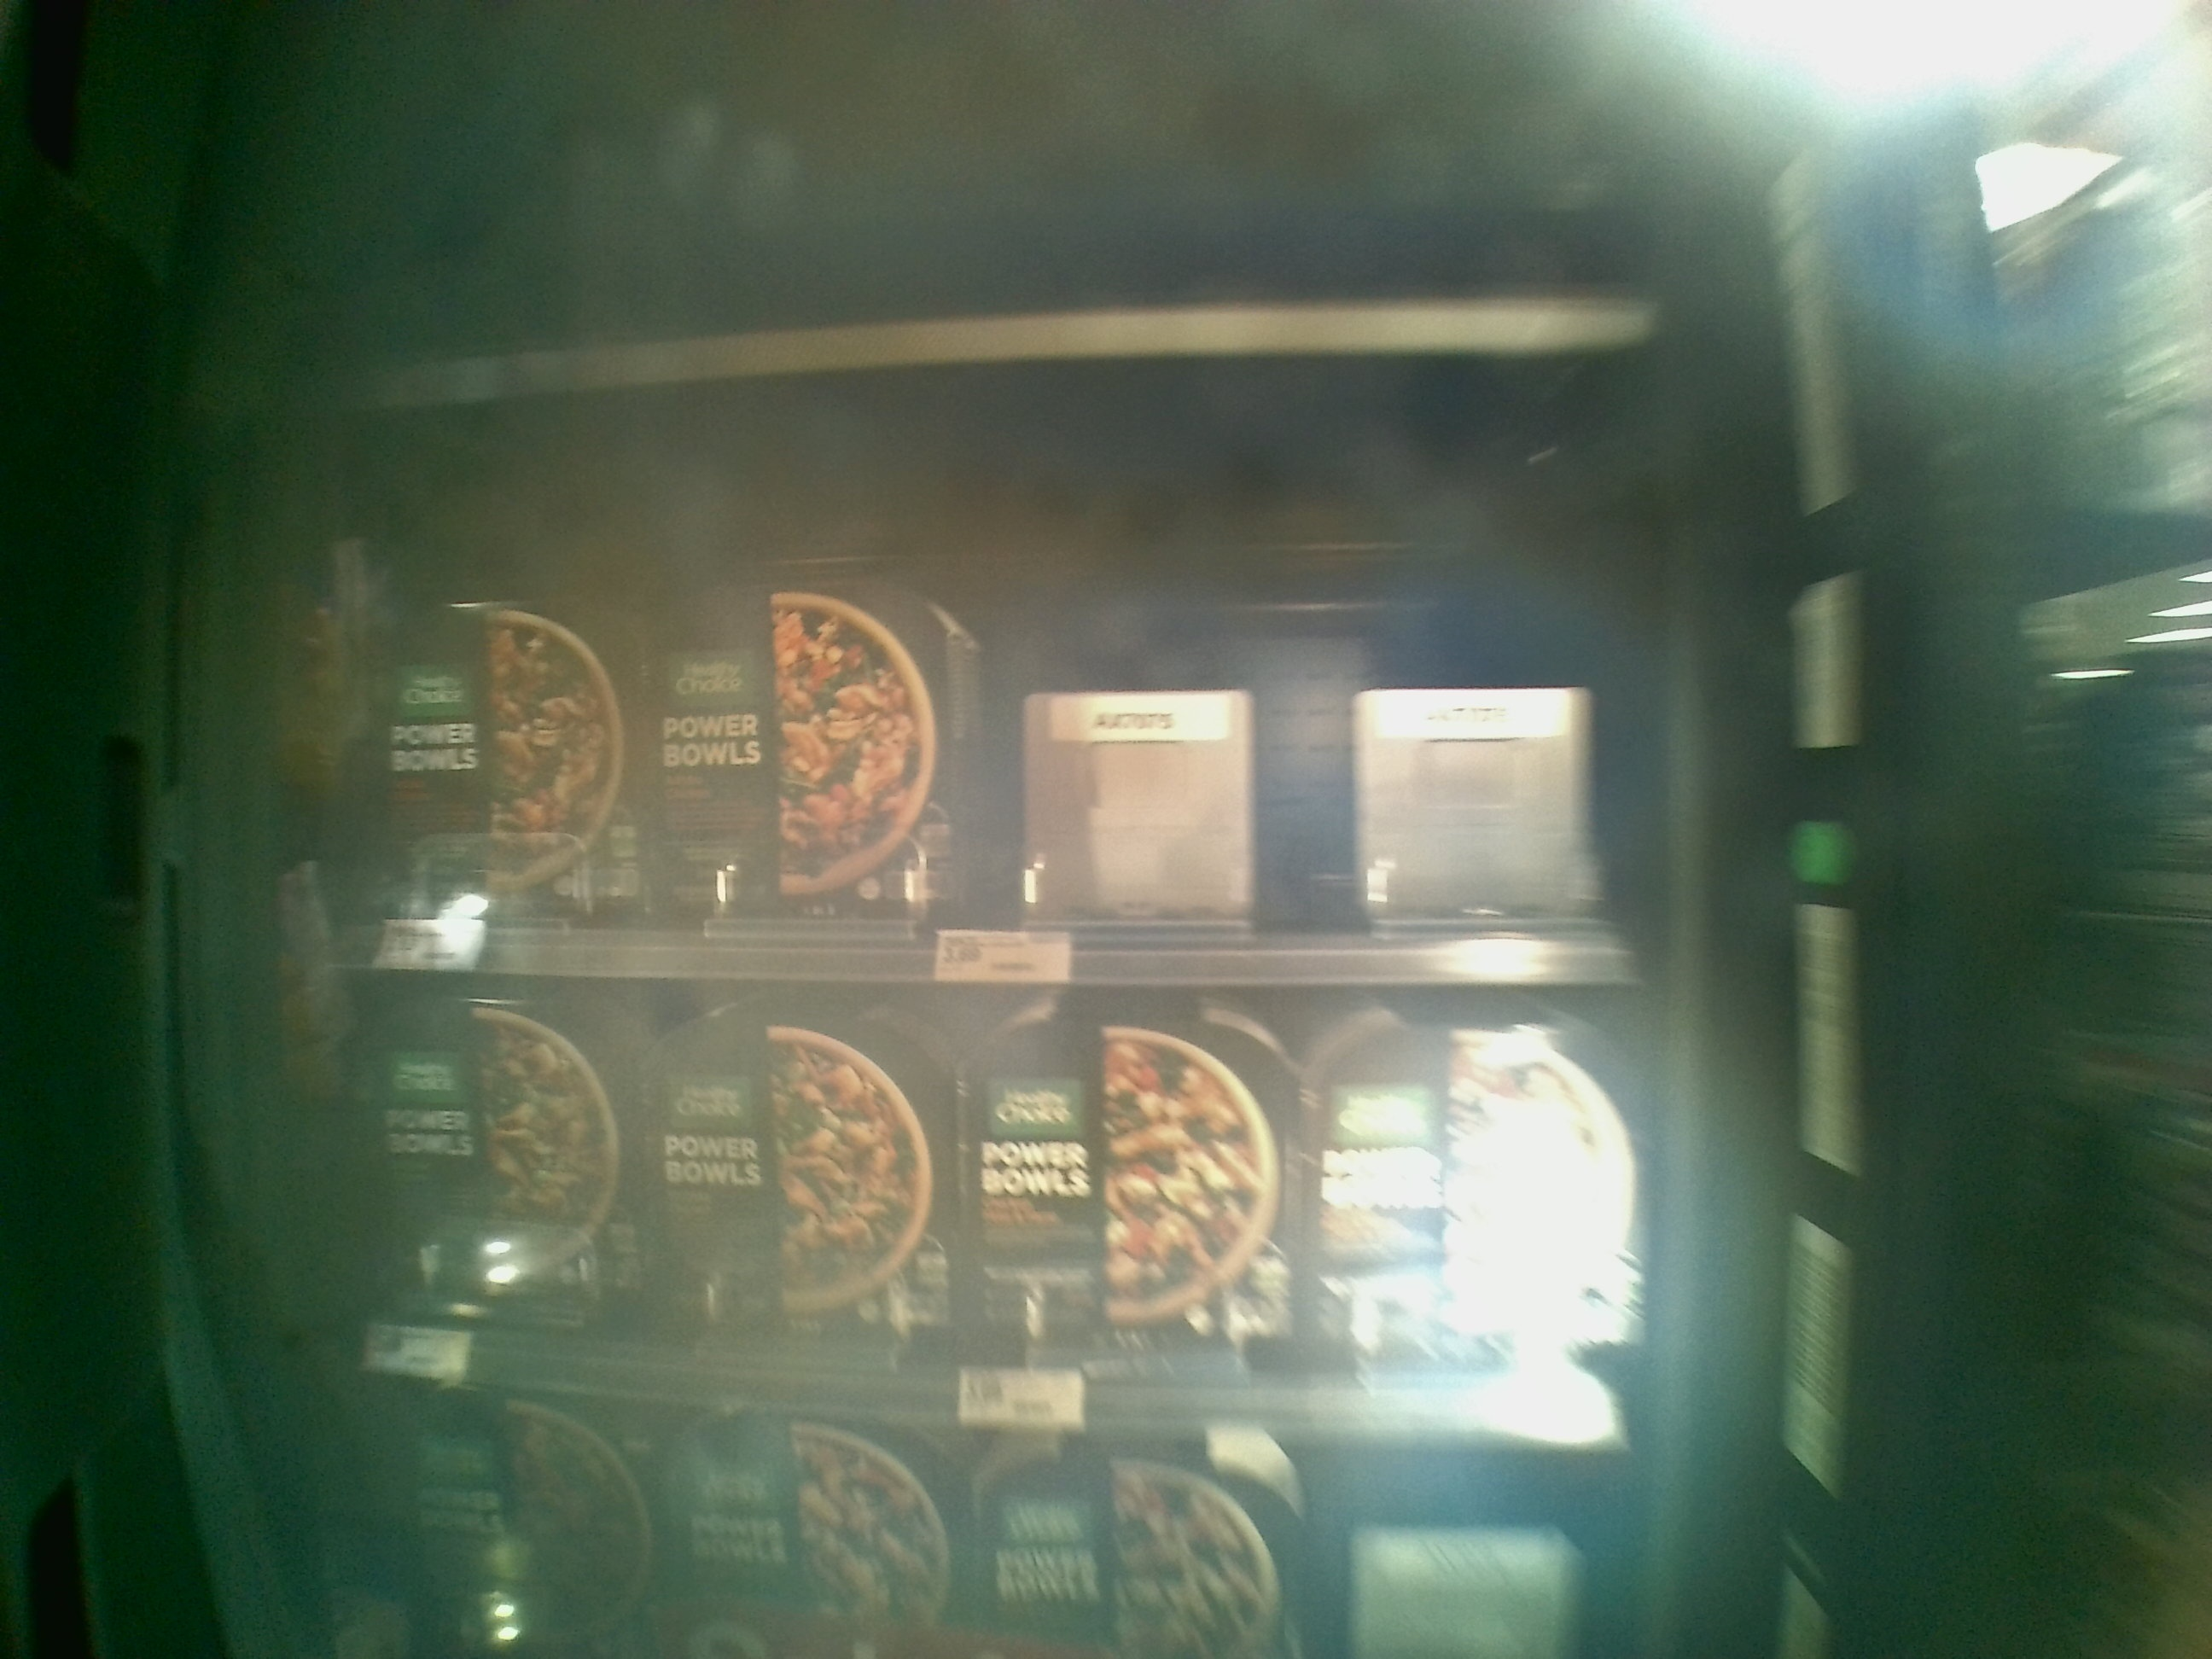shelf: (329, 457, 1672, 979)
